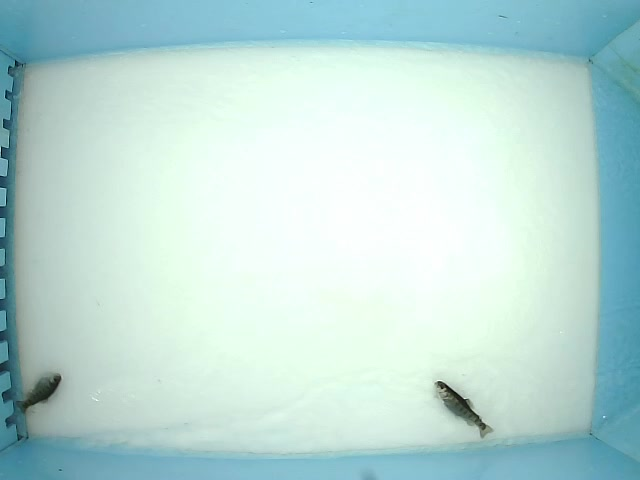fish: (429, 375, 502, 442), (14, 372, 64, 415)
